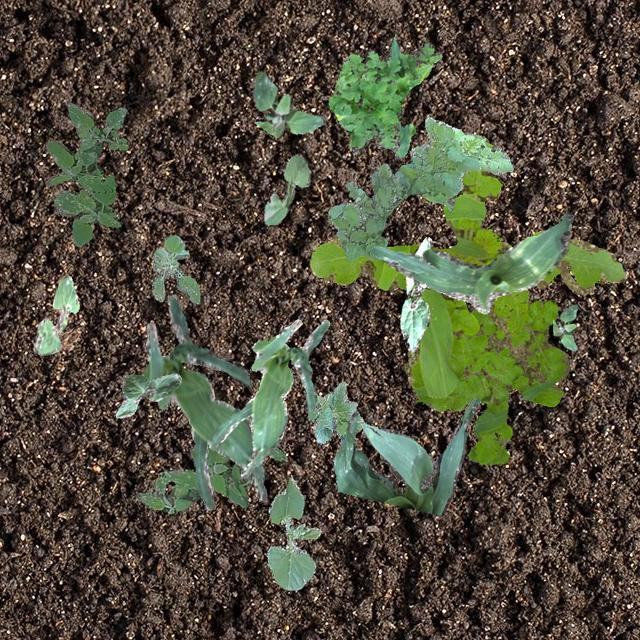crop: (142, 294, 266, 508), (370, 212, 572, 312), (208, 318, 328, 478), (332, 396, 478, 514), (266, 476, 320, 590), (399, 236, 432, 352), (32, 274, 78, 354), (306, 381, 364, 444), (264, 153, 308, 225), (114, 372, 180, 417)
weed: (308, 142, 626, 396), (326, 116, 512, 260), (414, 298, 568, 464), (136, 413, 284, 512), (328, 36, 440, 158), (45, 102, 126, 246), (252, 70, 322, 136), (150, 235, 198, 302), (552, 304, 576, 349)
